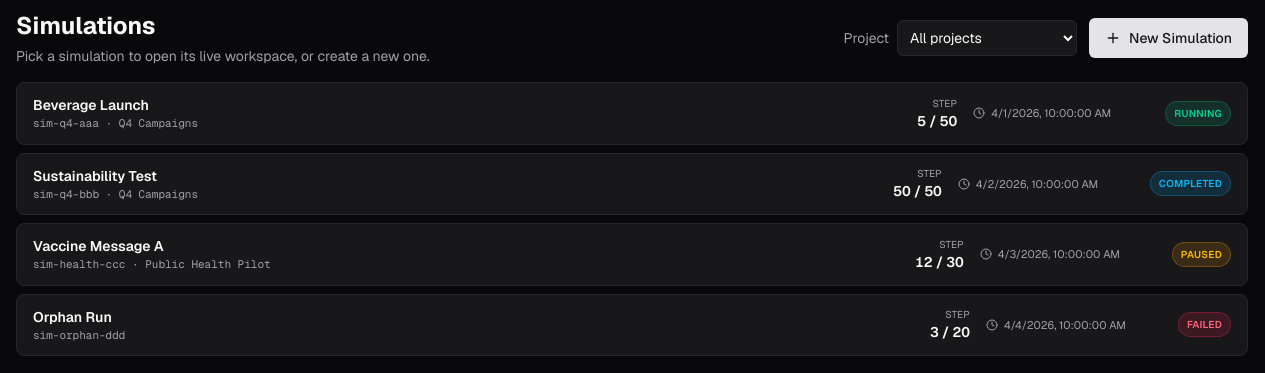
Test case: SimulationListPage — Project Scoping (§10) › SL-AC-02: filter application › shows only simulations matching the selected project
Expected: the button with test id "simulation-row-sim-q4-aaa" is shown, [16,82,1248,144]
Expected: the button with test id "simulation-row-sim-q4-bbb" is shown, [16,152,1248,215]
Apply filter: Q4 project
Select "Q4 Campaigns" in the dropdown with test id "simulation-list-project-filter". click: (987, 38)
box: [897,20,1077,56]
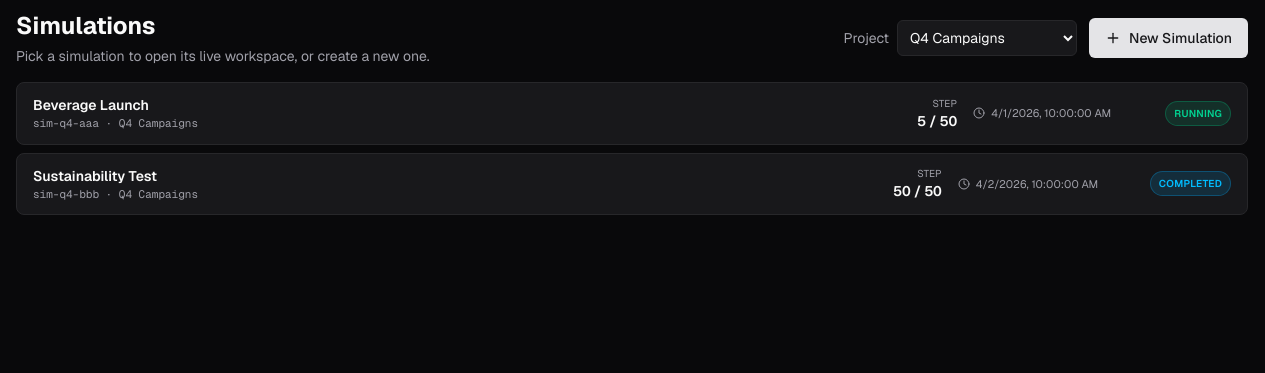
Expected: the button with test id "simulation-row-sim-q4-aaa" is shown, [16,82,1248,144]
Expected: the button with test id "simulation-row-sim-health-ccc" is gone
Expected: the button with test id "simulation-row-sim-orphan-ddd" is gone
